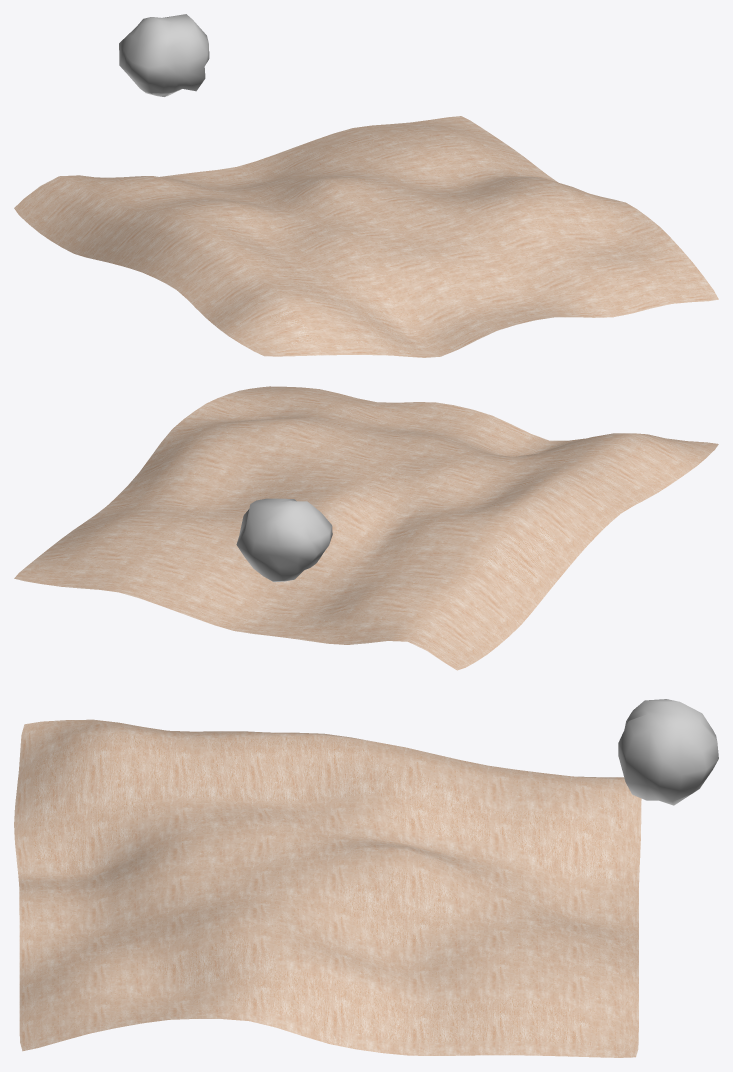
The picture shows the model from 3 angles, top to bottom: view 1: azimuth 30°, elevation 25°; view 2: azimuth 150°, elevation 25°; view 3: azimuth 270°, elevation 25°; orthographic projection. The views are drawn at different scales.
Parts seen in each view (by area): view 1: Plane, Rock; view 2: Plane, Rock; view 3: Plane, Rock.
Boxes of the visible parts, x1,y1,x2,y2 form: Plane: [14, 116, 718, 357]; Rock: [119, 14, 209, 96]; Plane: [14, 386, 718, 670]; Rock: [236, 498, 332, 582]; Plane: [14, 719, 641, 1057]; Rock: [618, 699, 718, 805].
Bounding box in the file's own units: 2986 × 969 × 3307.
